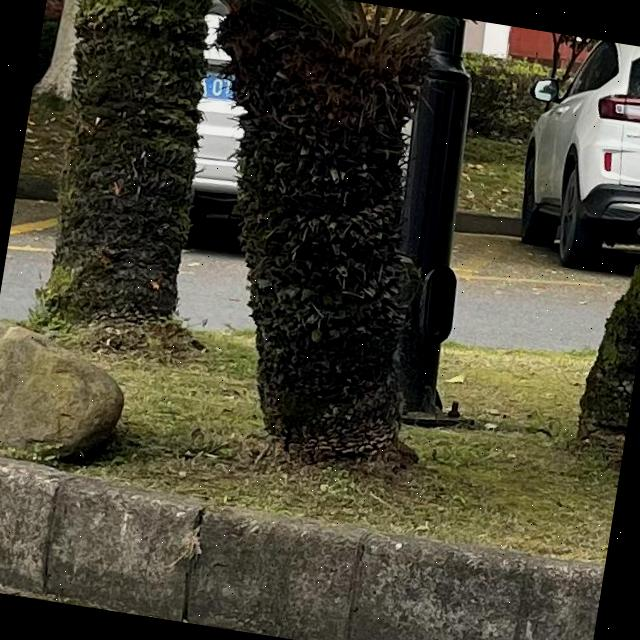curb: (0, 460, 604, 640), (455, 211, 520, 236), (457, 211, 516, 234), (15, 173, 58, 201)
